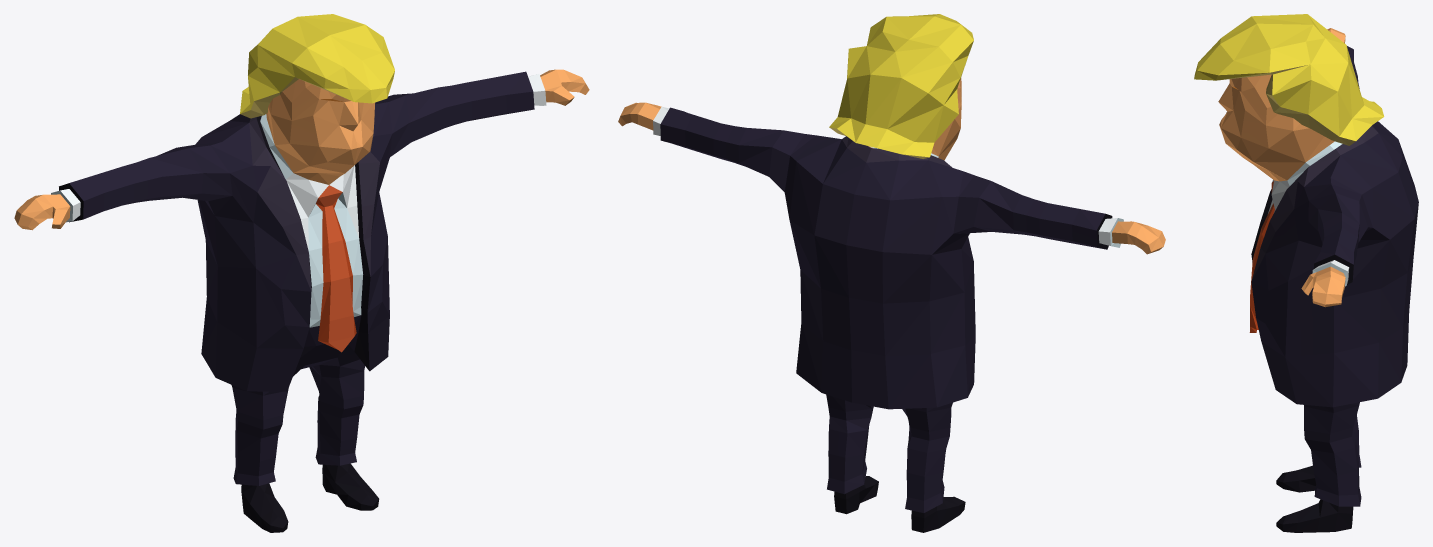
The picture shows the model from 3 angles, left to right: view 1: azimuth 30°, elevation 25°; view 2: azimuth 150°, elevation 25°; view 3: azimuth 270°, elevation 25°; orthographic projection. The views are drawn at different scales.
Visible parts, largest first — view 1: trump_lp_model; view 2: trump_lp_model; view 3: trump_lp_model.
Part boxes in pixels (x1=…): trump_lp_model: x1=14, y1=14, x2=589, y2=532; trump_lp_model: x1=618, y1=14, x2=1165, y2=532; trump_lp_model: x1=1194, y1=14, x2=1418, y2=532.
Size of the model in its own units: 2.68 by 2.24 by 0.9514.
Materials: 1 (1 with a texture image).
